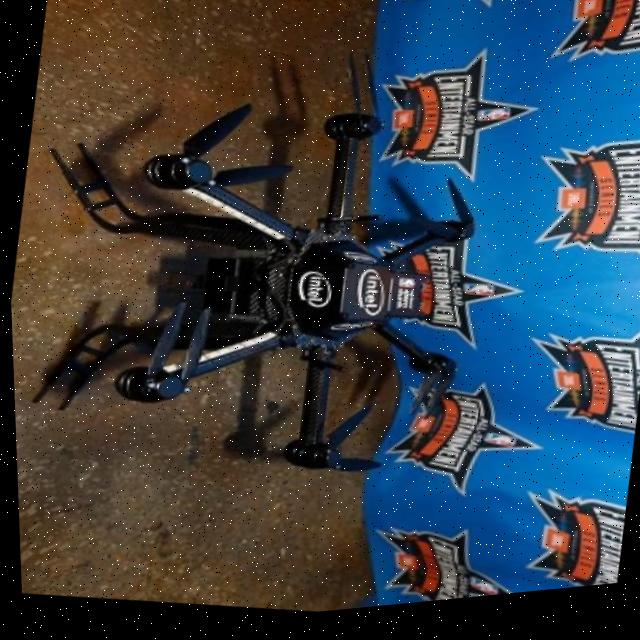drones: (46, 39, 509, 522)
